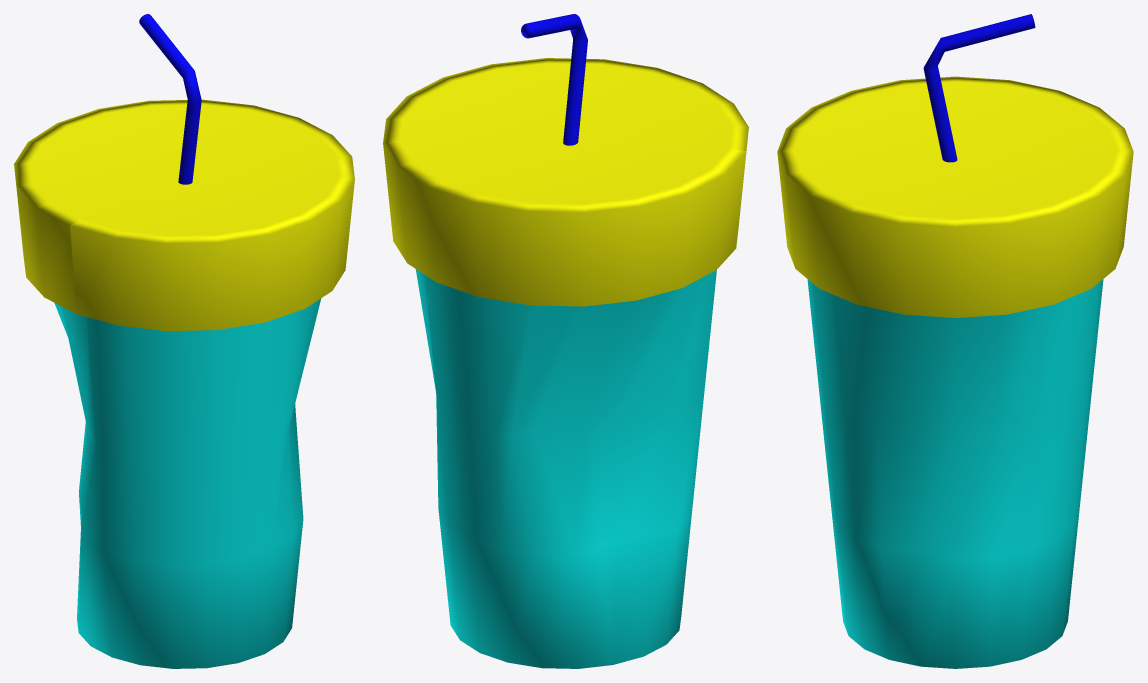
File: gobelet.fbx
3 views of the same model, side by side, from view 1: azimuth 30°, elevation 25°; view 2: azimuth 150°, elevation 25°; view 3: azimuth 270°, elevation 25° (orthographic). The views are drawn at different scales.
Visible parts, largest first — view 1: polySurface31, polySurface30, polySurface28; view 2: polySurface31, polySurface30, polySurface28; view 3: polySurface31, polySurface30, polySurface28.
Part boxes in pixels (<box>): polySurface31: <box>54,298,321,668</box>; polySurface30: <box>14,99,354,331</box>; polySurface28: <box>139,14,201,184</box>; polySurface31: <box>415,269,716,668</box>; polySurface30: <box>383,58,748,306</box>; polySurface28: <box>521,14,587,145</box>; polySurface31: <box>807,279,1103,668</box>; polySurface30: <box>777,76,1133,317</box>; polySurface28: <box>923,14,1035,162</box>.
Size of the model in its own units: 0.3123 by 0.5859 by 0.3123.
